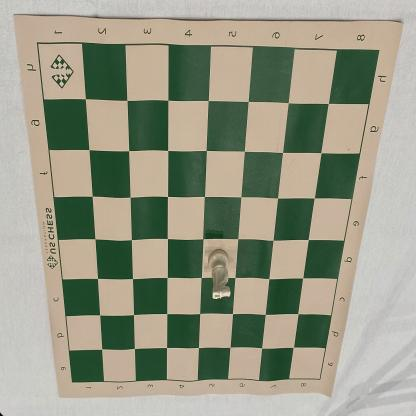white-knight: (207, 248, 231, 300)
